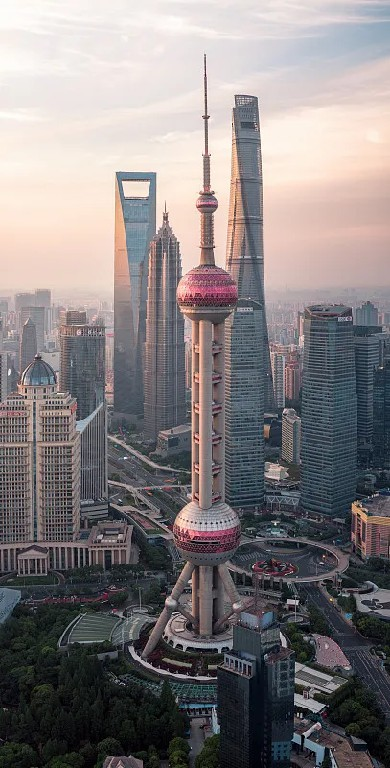Oriental: (140, 52, 242, 659)
